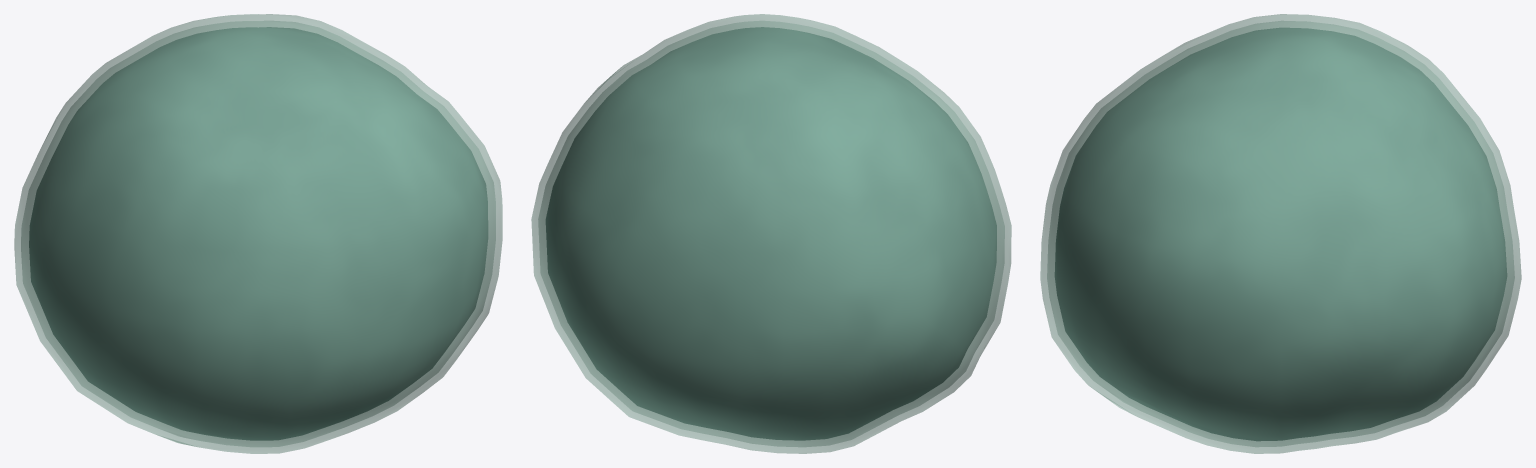
File: huroniospora_001.glb
3 views of the same model, side by side, from view 1: azimuth 30°, elevation 25°; view 2: azimuth 150°, elevation 25°; view 3: azimuth 270°, elevation 25° (orthographic). The views are drawn at different scales.
Parts seen in each view (by area): view 1: huroniospora_wall, huroniospora_cytoplasm; view 2: huroniospora_wall, huroniospora_cytoplasm; view 3: huroniospora_wall, huroniospora_cytoplasm.
Part boxes in pixels (box(x1,y1,x2,y2)): huroniospora_wall: box(14, 14, 502, 453); huroniospora_cytoplasm: box(29, 27, 487, 440); huroniospora_wall: box(531, 14, 1011, 453); huroniospora_cytoplasm: box(546, 27, 996, 440); huroniospora_wall: box(1040, 14, 1521, 453); huroniospora_cytoplasm: box(1055, 28, 1506, 440).
Bounding box in the file's own units: 11.01 × 9.66 × 10.73.
